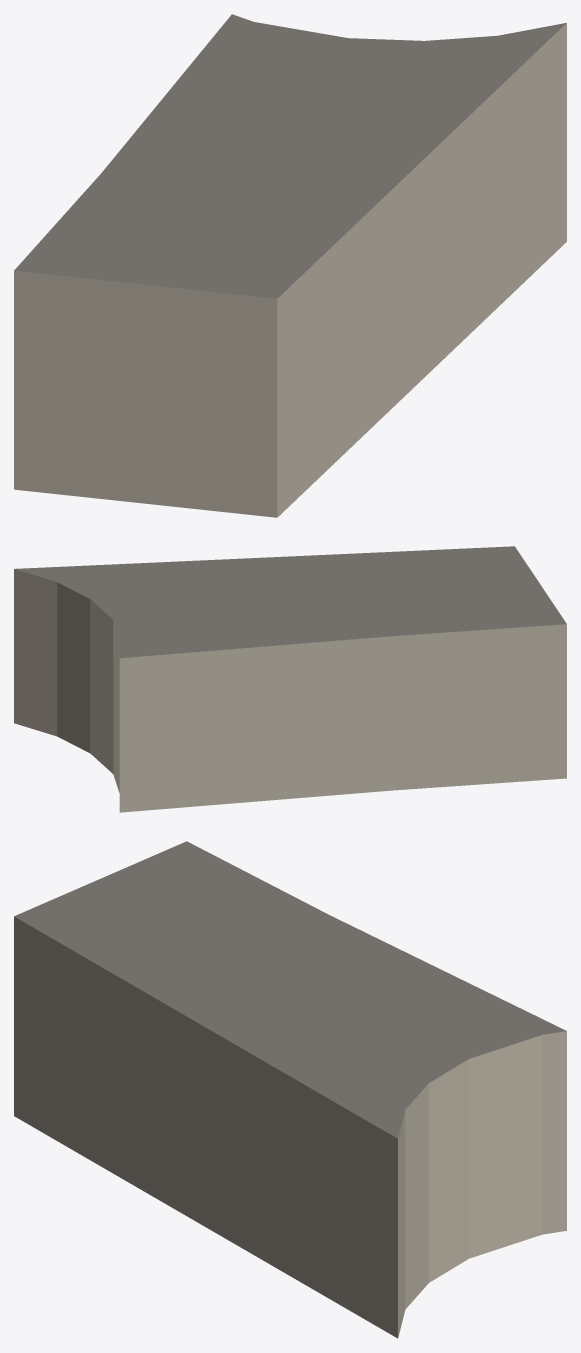
The picture shows the model from 3 angles, top to bottom: view 1: azimuth 30°, elevation 25°; view 2: azimuth 150°, elevation 25°; view 3: azimuth 270°, elevation 25°; orthographic projection. The views are drawn at different scales.
Parts seen in each view (by area): view 1: HP-w369342446; view 2: HP-w369342446; view 3: HP-w369342446.
Part boxes in pixels (x1,y1,x2,y2): HP-w369342446: [14, 14, 566, 517]; HP-w369342446: [14, 546, 566, 812]; HP-w369342446: [14, 841, 566, 1338].
Bounding box in the file's own units: 57.53 × 18 × 45.16.
